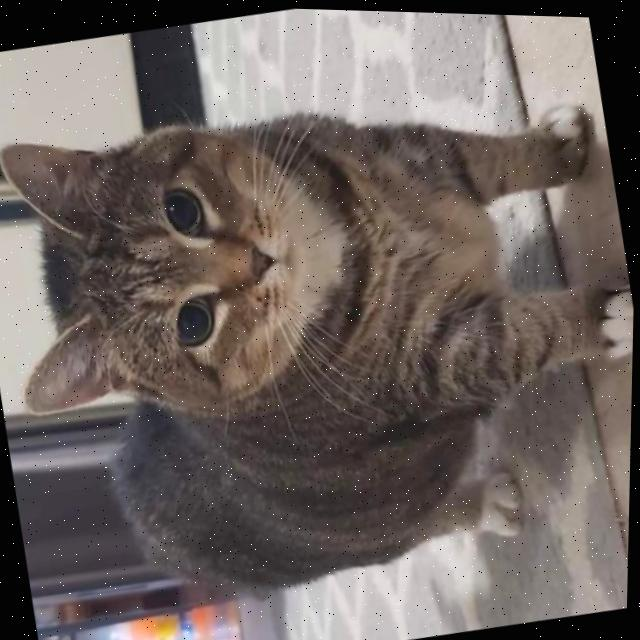Munchkin: (0, 35, 639, 639)
